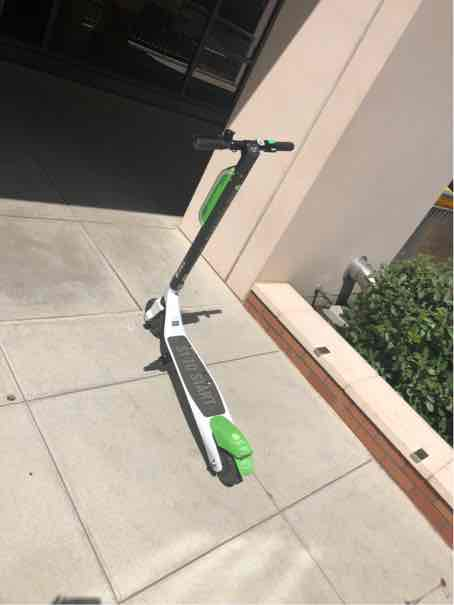scooter: (130, 112, 303, 502)
